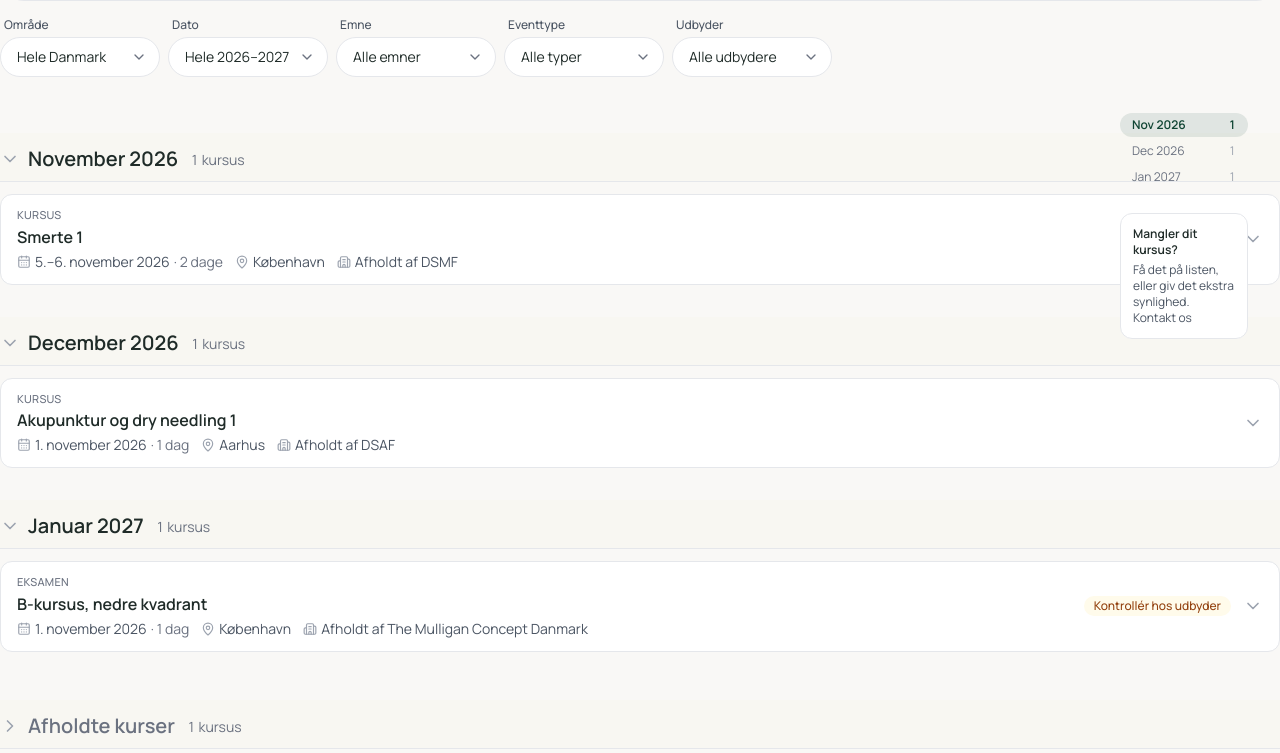
Test: CourseOverview › collapses past courses at the bottom and marks them as held
Click the button "Afholdte kurser": [88, 726] box [0,712,175,740]
(page scrolled)
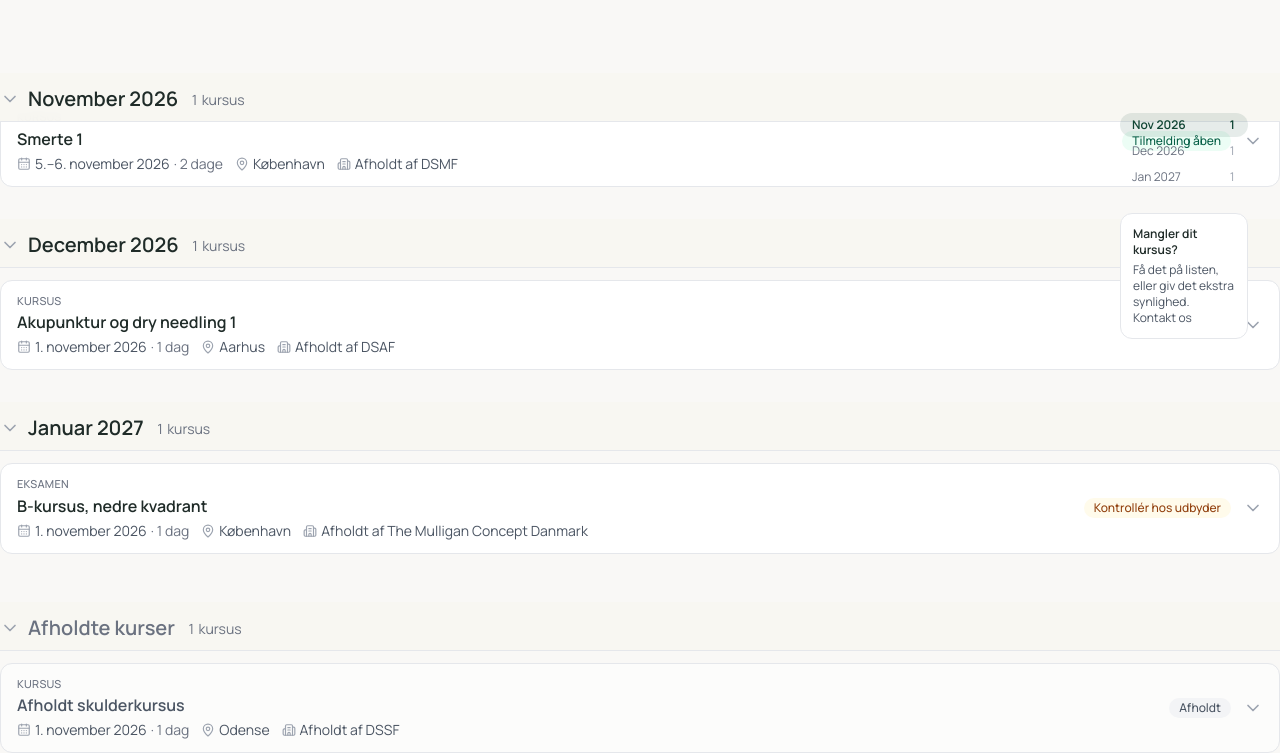
Expected: the text "Afholdt" is shown, [1169,698,1231,718]
Expected: the heading "Afholdt skulderkursus" is shown, [17,694,185,716]
